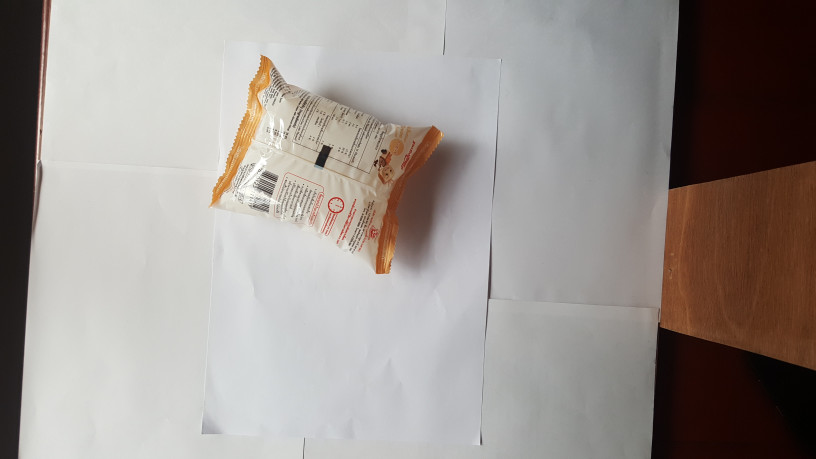farmhouse-sweetsandwich-almond: (203, 52, 442, 275)
